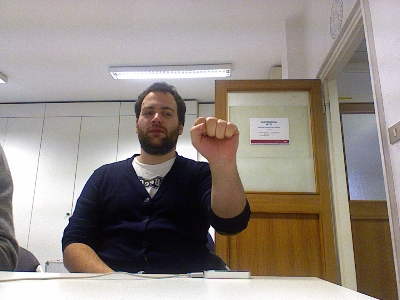石头: (188, 114, 239, 161)
